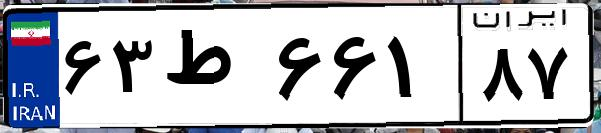1: (385, 28, 445, 110)
3: (110, 28, 158, 98)
6: (270, 28, 330, 110), (330, 28, 385, 110), (57, 26, 110, 100)
7: (525, 38, 570, 115)
8: (475, 38, 525, 113)
ط: (158, 20, 270, 120)
